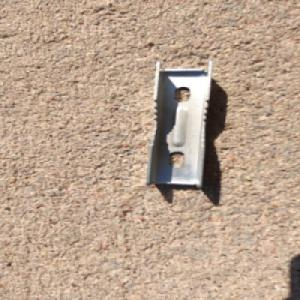ClampPart: (143, 58, 215, 189)
